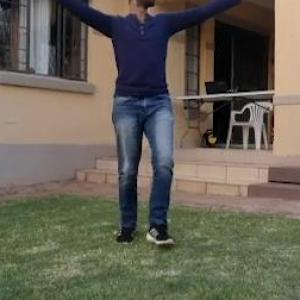takeoff: (39, 0, 294, 270)
